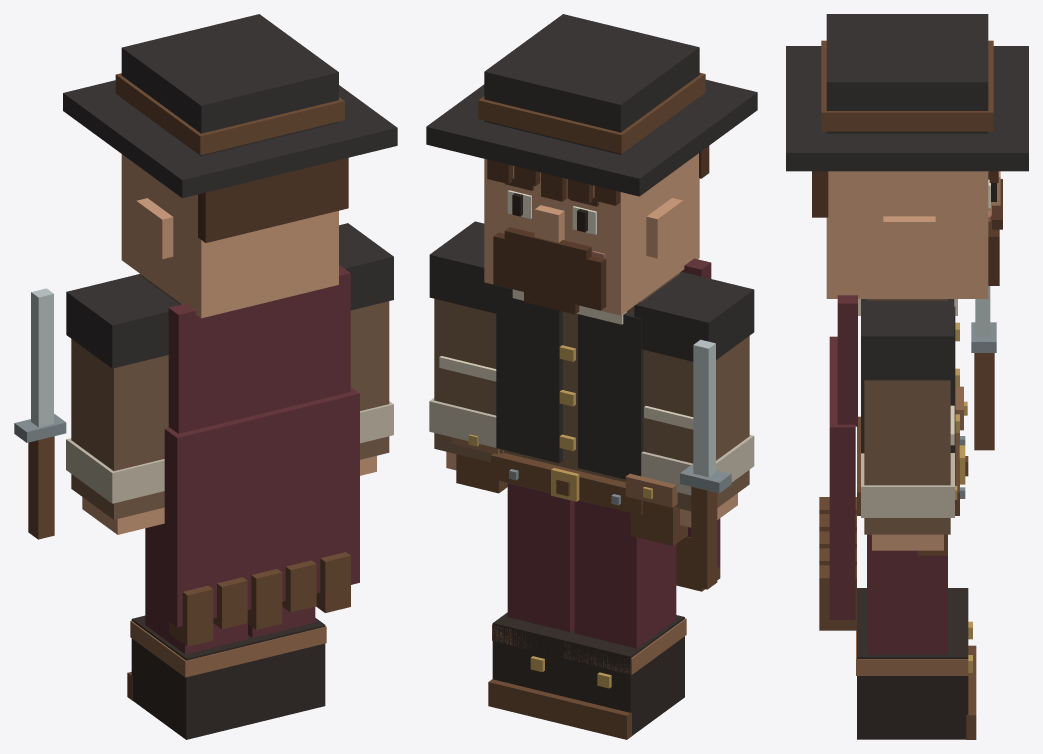
The model's file is highwayman.obj.
3 renders of one model, left to right at view 1: azimuth 30°, elevation 25°; view 2: azimuth 150°, elevation 25°; view 3: azimuth 270°, elevation 25°, orthographic. The views are drawn at different scales.
Parts seen in each view (by area): view 1: head, equipment_back, right_arm, right_leg, left_arm, left_leg, equipment_right; view 2: head, body, right_leg, right_arm, left_leg, left_arm, equipment_right, equipment_back; view 3: head, left_arm, left_leg, equipment_back, equipment_right, body, right_leg.
Boxes of the visible parts, x1,y1,x2,y2 form: head: (63, 14, 397, 318); equipment_back: (164, 265, 359, 646); right_arm: (66, 274, 179, 534); right_leg: (127, 523, 259, 739); left_arm: (339, 223, 393, 475); left_leg: (248, 606, 326, 722); equipment_right: (14, 288, 66, 539); head: (426, 14, 757, 315); body: (451, 272, 687, 545); right_leg: (555, 500, 686, 739); right_arm: (634, 271, 754, 527); left_leg: (488, 483, 574, 723); left_arm: (429, 221, 503, 470); equipment_right: (680, 339, 731, 589); equipment_back: (676, 258, 720, 591); head: (786, 14, 1028, 298); left_arm: (861, 299, 954, 550); left_leg: (856, 534, 976, 739); equipment_back: (819, 295, 857, 630); equipment_right: (971, 286, 996, 450); body: (857, 299, 968, 555); right_leg: (857, 588, 976, 679).
Bounding box in the file's own units: 1.14 × 2.24 × 0.75.
